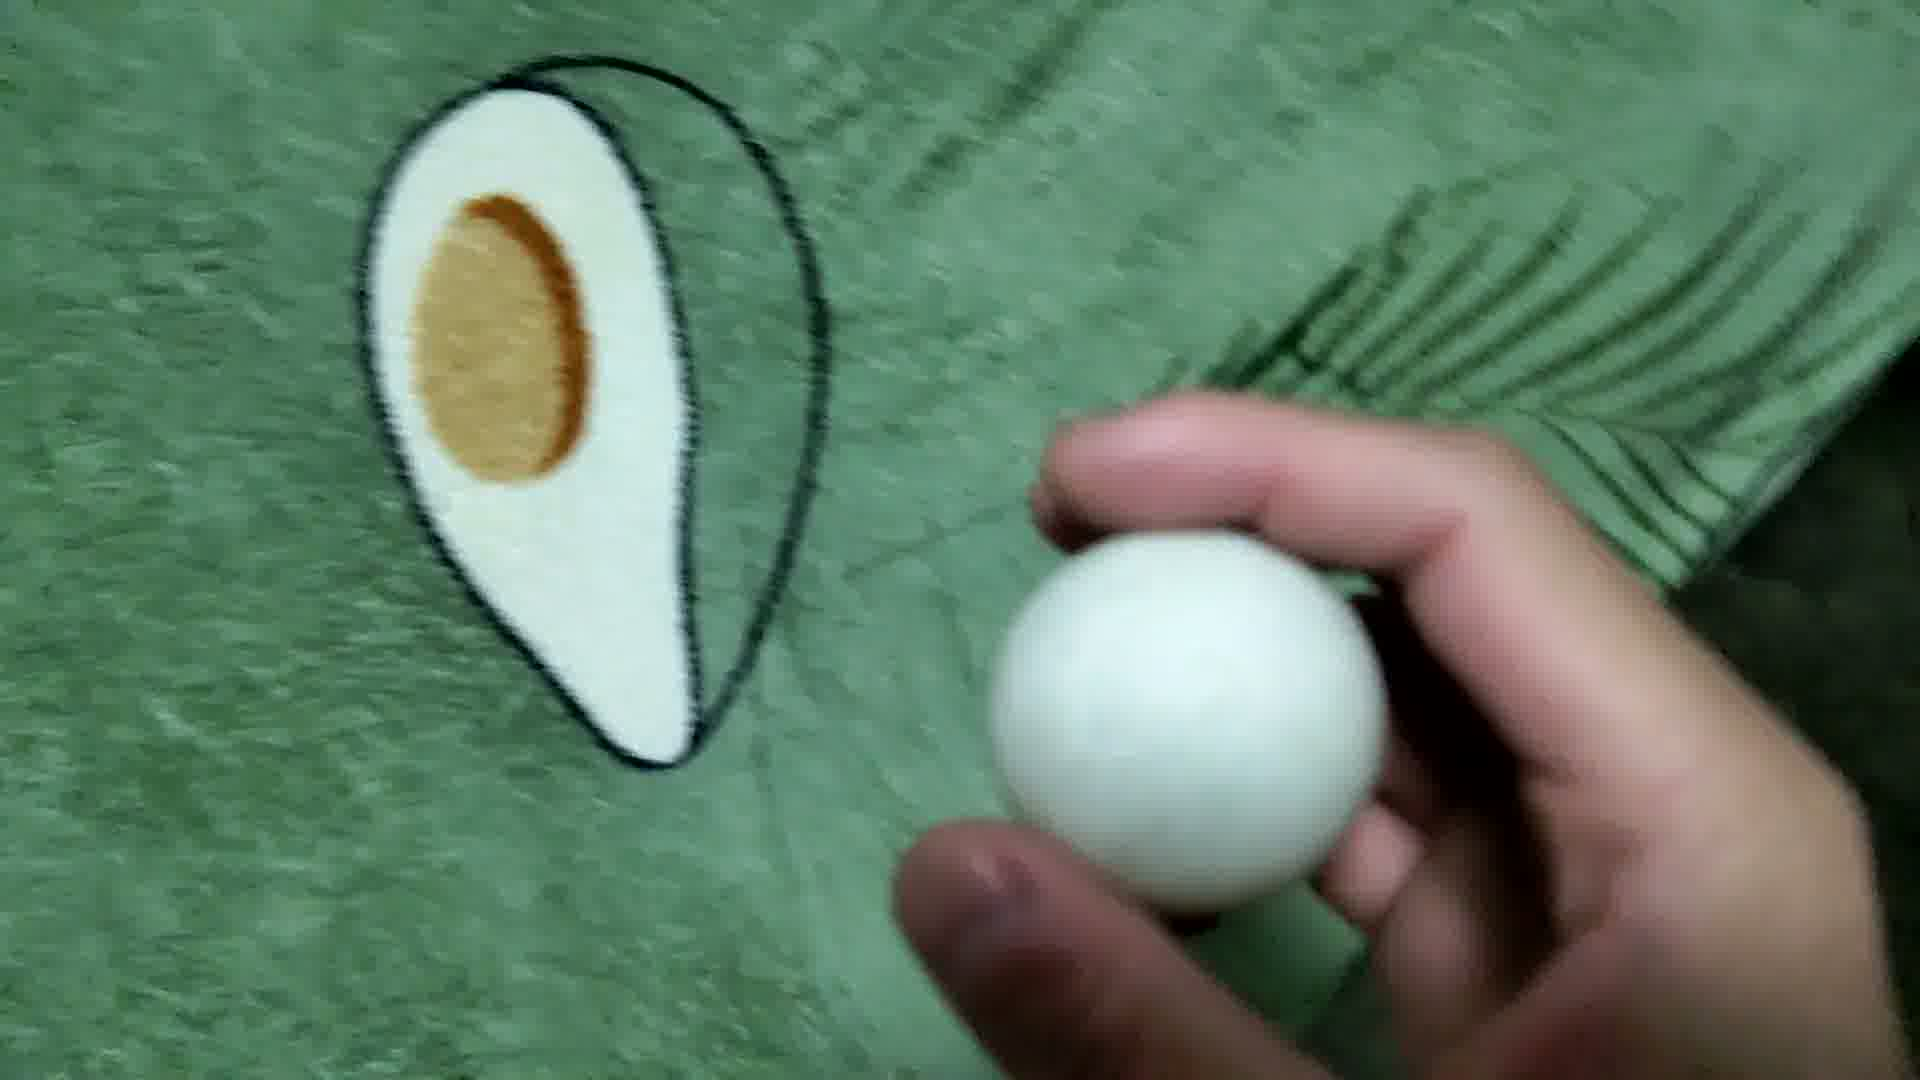Ball: (985, 520, 1389, 909)
